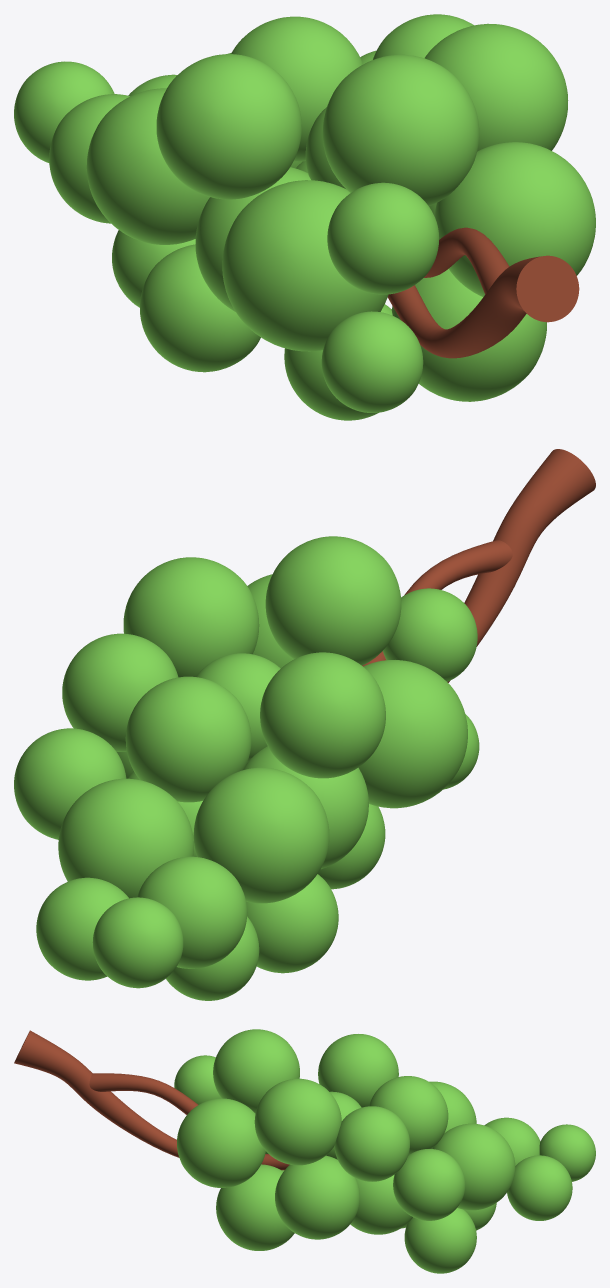
The model's file is Uva.fbx.
The picture shows the model from 3 angles, top to bottom: view 1: azimuth 30°, elevation 25°; view 2: azimuth 150°, elevation 25°; view 3: azimuth 270°, elevation 25°; orthographic projection. The views are drawn at different scales.
Parts seen in each view (by area): view 1: Uvas, Ramo; view 2: Uvas, Ramo; view 3: Uvas, Ramo.
Boxes of the visible parts, box(x1,y1,x2,y2) form: Uvas: box(14, 14, 595, 420); Ramo: box(387, 227, 579, 358); Uvas: box(14, 536, 479, 1000); Ramo: box(362, 449, 595, 682); Uvas: box(174, 1029, 595, 1273); Ramo: box(14, 1030, 289, 1170).
Bounding box in the file's own units: 6.2 × 6.34 × 15.43.
